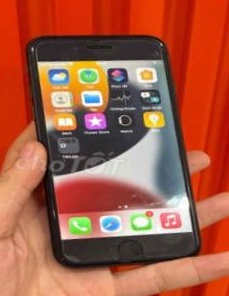scratch: (144, 34, 168, 57), (25, 39, 38, 62), (46, 202, 60, 219), (57, 253, 84, 261)
